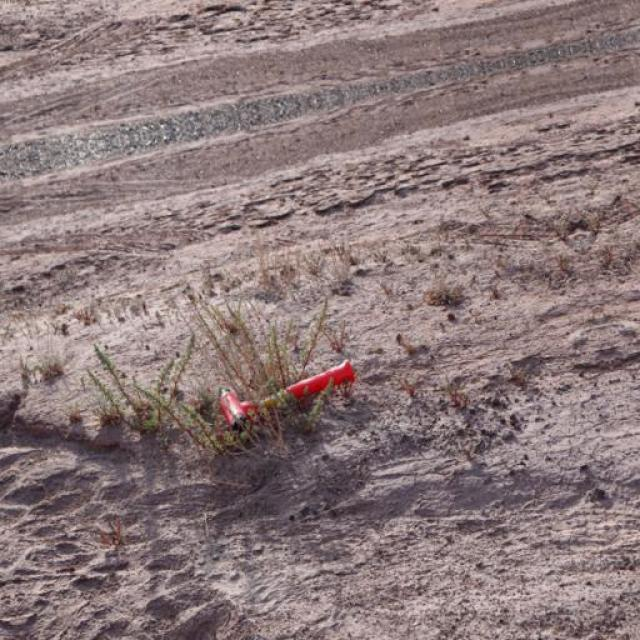mallet: (216, 358, 355, 433)
